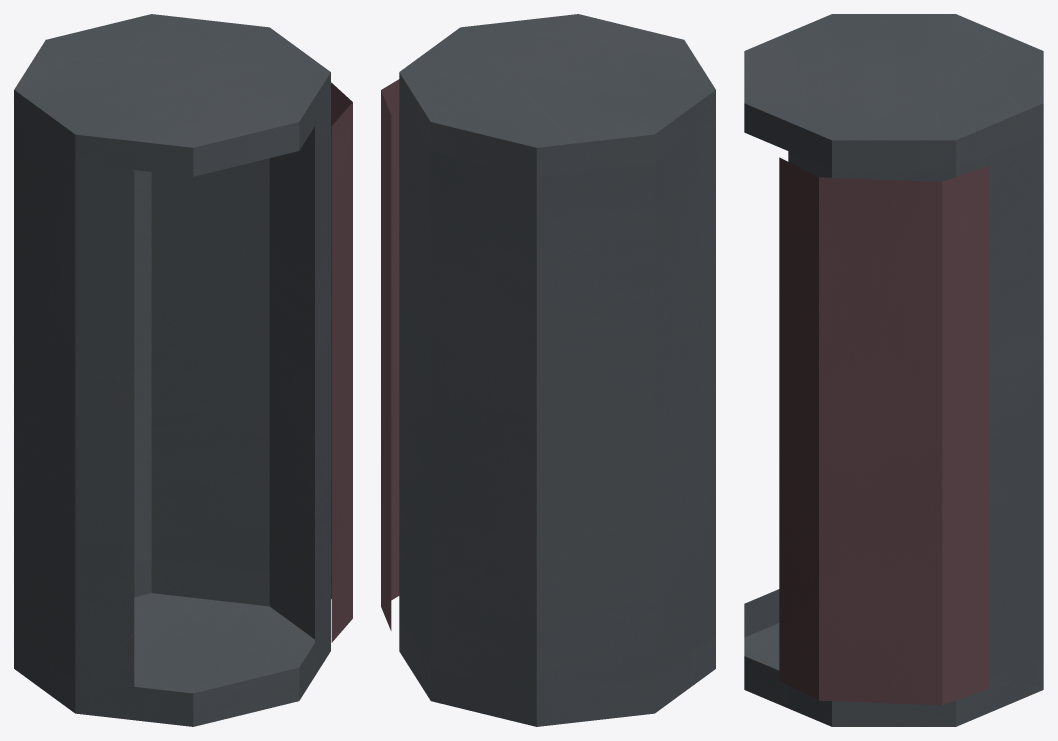
Rendered from SCPCage_opened.gltf.
3 renders of one model, left to right at view 1: azimuth 30°, elevation 25°; view 2: azimuth 150°, elevation 25°; view 3: azimuth 270°, elevation 25°, orthographic.
Visible parts, largest first — view 1: Cage, Cage.001; view 2: Cage, Cage.001; view 3: Cage.001, Cage.
Boxes of the visible parts, box(x1,y1,x2,y2) form: Cage: box(14, 14, 330, 726); Cage.001: box(331, 82, 352, 642); Cage: box(399, 14, 715, 726); Cage.001: box(381, 79, 399, 630); Cage.001: box(779, 157, 989, 705); Cage: box(744, 14, 1043, 726).
Bounding box in the file's own units: 1.62 × 3.2 × 1.48.
2 materials, 2 textured.
